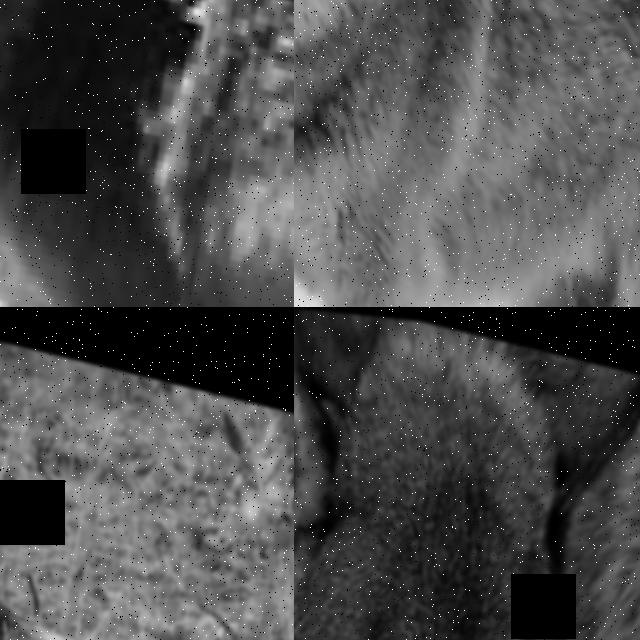wolf: (294, 307, 640, 640), (294, 0, 640, 307), (0, 307, 294, 640), (0, 0, 294, 307), (471, 339, 640, 640)
